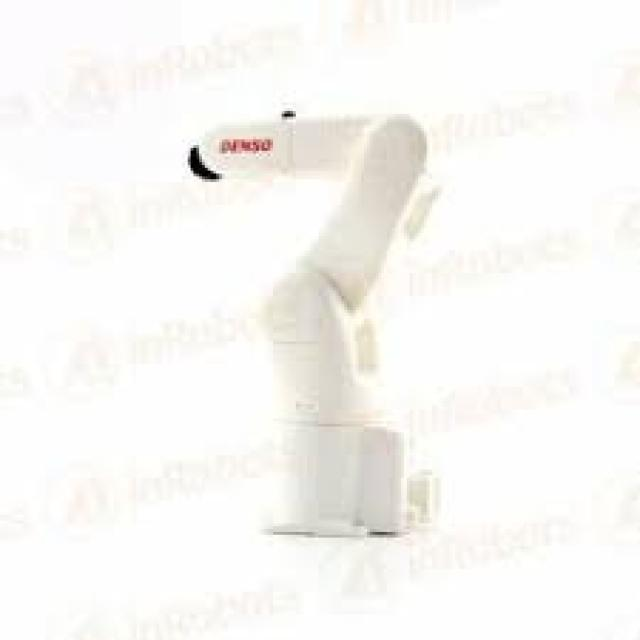Robotic-arm: (183, 98, 454, 548)
